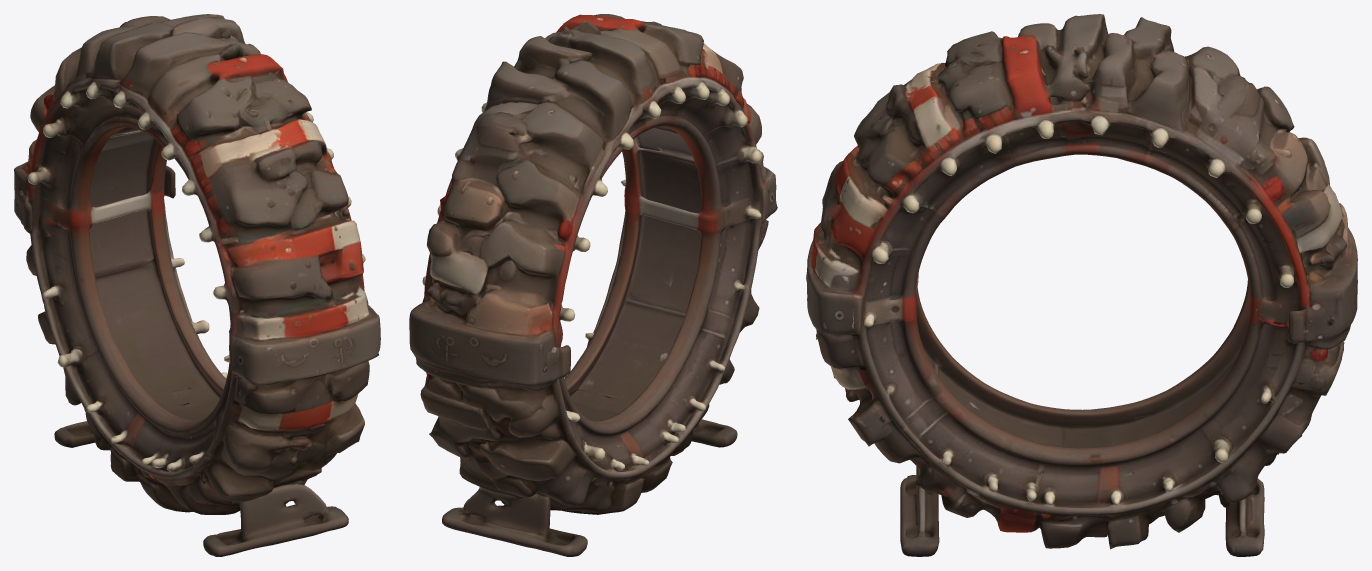
File: race_trick_ring.glb
3 views of the same model, side by side, from view 1: azimuth 30°, elevation 25°; view 2: azimuth 150°, elevation 25°; view 3: azimuth 270°, elevation 25° (orthographic). The views are drawn at different scales.
Parts seen in each view (by area): view 1: tripo_node_9c431330-97ef-49e5-b841-df26e1f09f20; view 2: tripo_node_9c431330-97ef-49e5-b841-df26e1f09f20; view 3: tripo_node_9c431330-97ef-49e5-b841-df26e1f09f20.
Boxes of the visible parts, <box> form: tripo_node_9c431330-97ef-49e5-b841-df26e1f09f20: <box>14,14,380,556</box>; tripo_node_9c431330-97ef-49e5-b841-df26e1f09f20: <box>409,14,777,556</box>; tripo_node_9c431330-97ef-49e5-b841-df26e1f09f20: <box>806,14,1357,556</box>.
Size of the model in its own units: 0.3356 by 0.9679 by 0.9749.
1 material, 1 textured.
